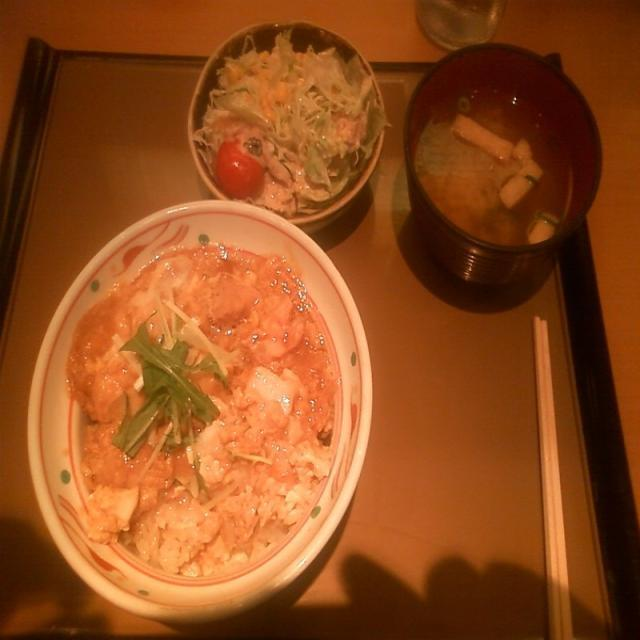Green Salad: (198, 32, 388, 222)
